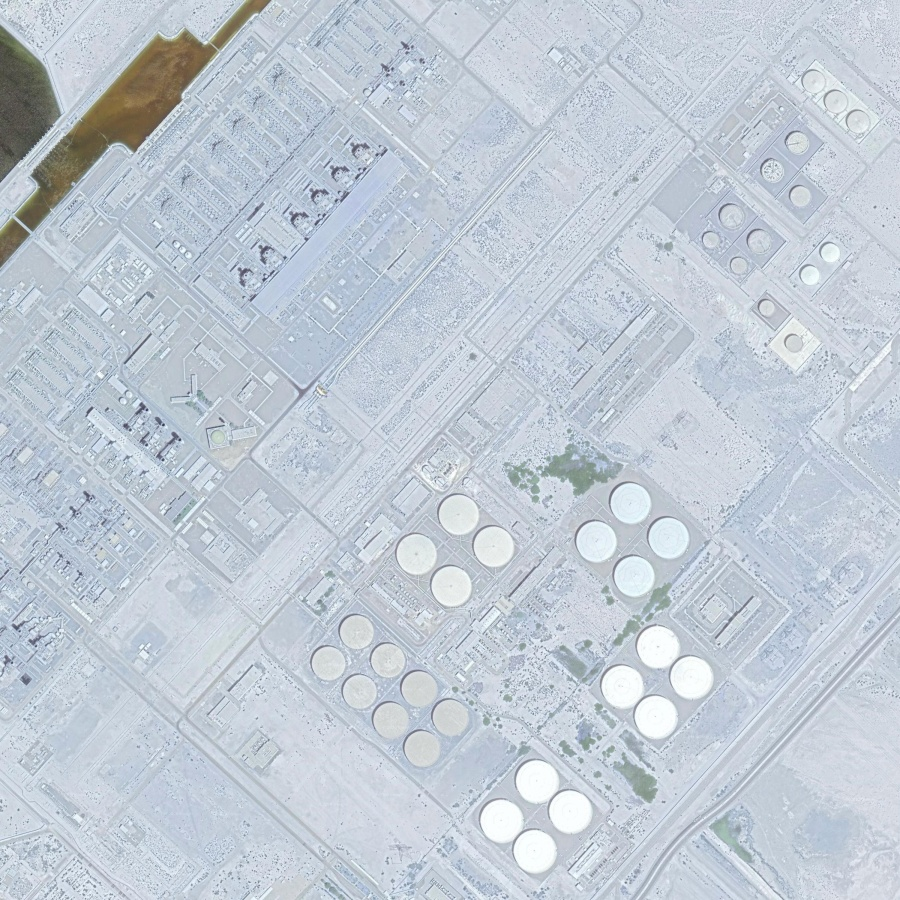PowerPlant: (301, 433, 751, 893)
